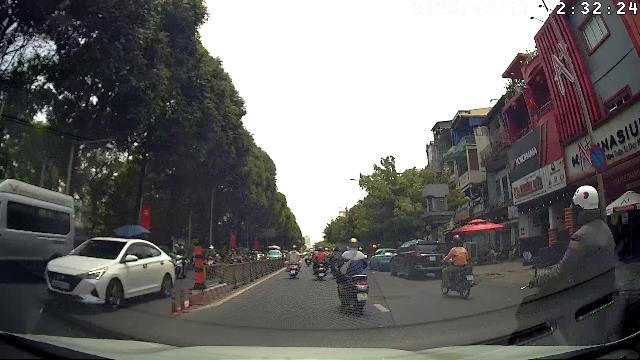131a-cam-do-xe: (590, 144, 606, 172)
